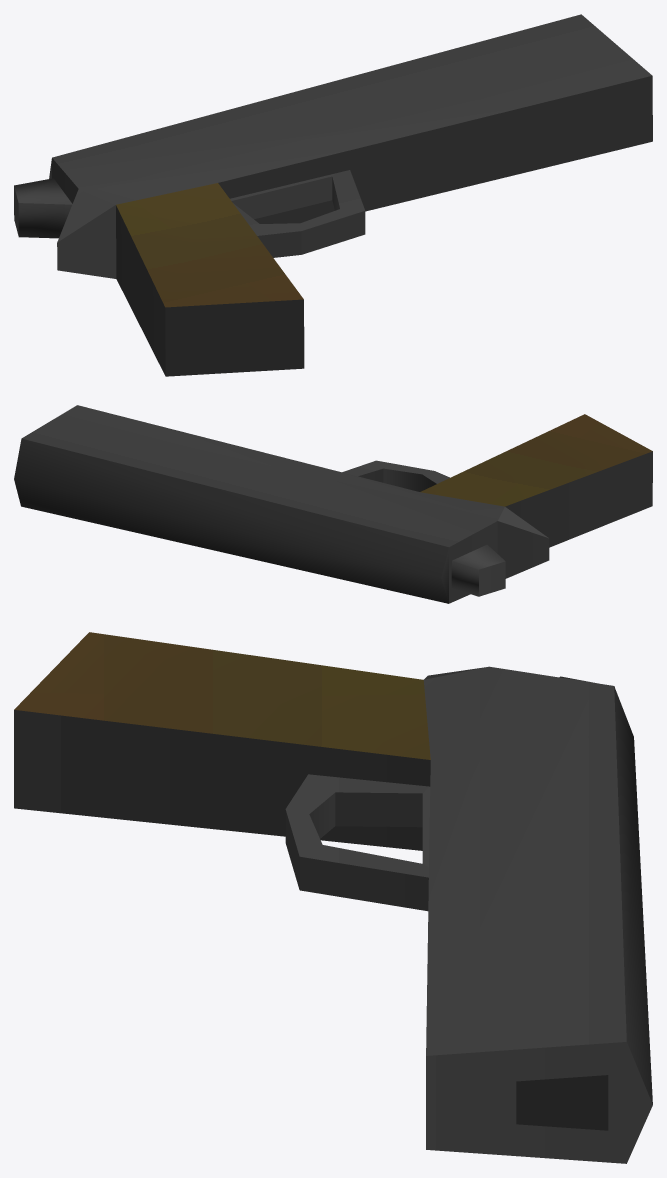
Rendered from loot_pistol.glb.
3 renders of one model, top to bottom at view 1: azimuth 30°, elevation 25°; view 2: azimuth 150°, elevation 25°; view 3: azimuth 270°, elevation 25°, orthographic. The views are drawn at different scales.
Parts seen in each view (by area): view 1: loot_pistol; view 2: loot_pistol; view 3: loot_pistol.
Part boxes in pixels (x1,y1,x2,y2): loot_pistol: (14,14,652,376); loot_pistol: (14,405,652,603); loot_pistol: (14,632,652,1163).
Size of the model in its own units: 0.2751 by 0.0372 by 0.1769.
Materials: 1 (1 with a texture image).
